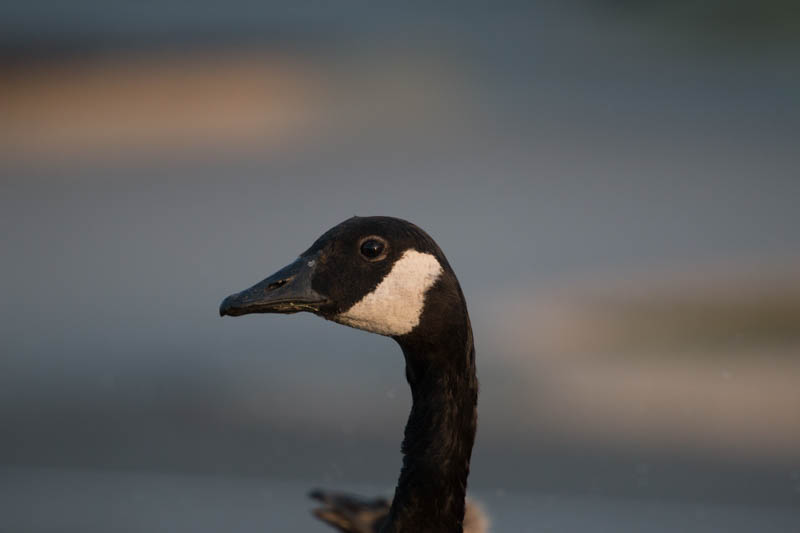goose-head: (218, 215, 467, 343)
